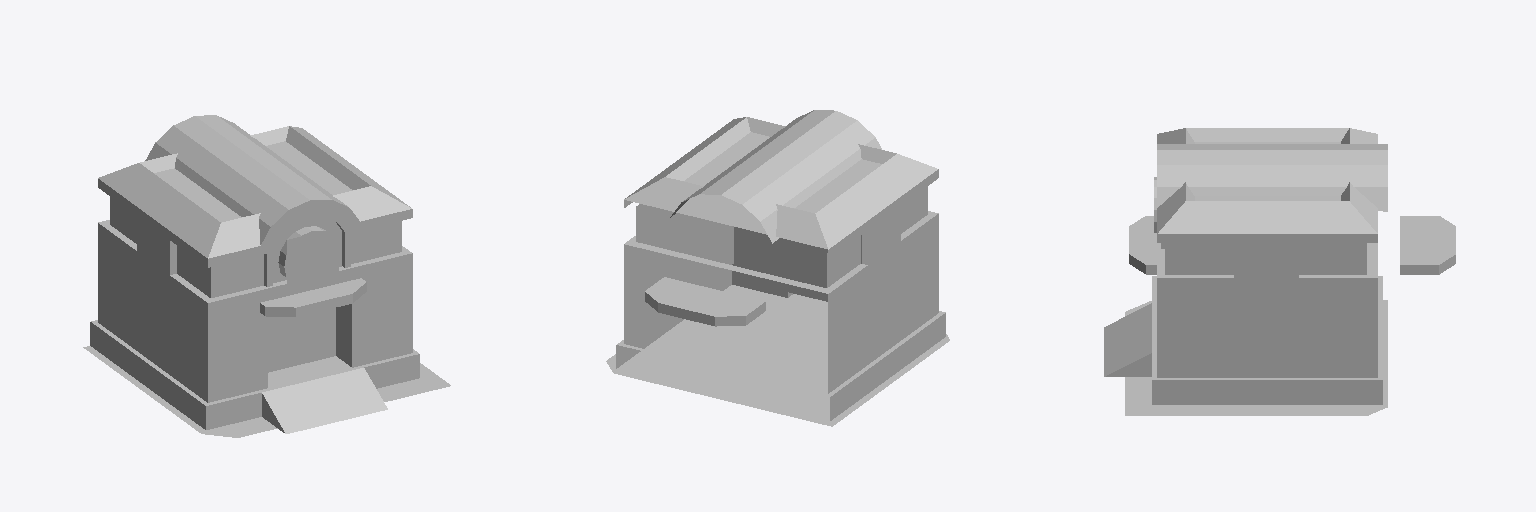
File: Pal Park.obj
3 renders of one model, left to right at view 1: azimuth 30°, elevation 25°; view 2: azimuth 150°, elevation 25°; view 3: azimuth 270°, elevation 25°, orthographic.
Visible parts, largest first — view 1: polygon3, polygon2, polygon0, polygon1; view 2: polygon3, polygon1, polygon2; view 3: polygon3, polygon2, polygon1.
Part boxes in pixels (x1,y1,x2,y2): polygon3: (90,115,419,433); polygon2: (110,197,401,297); polygon0: (287,227,338,293); polygon1: (83,346,450,437); polygon3: (616,110,945,420); polygon1: (606,285,949,426); polygon2: (636,186,927,287); polygon3: (1104,128,1455,404); polygon2: (1165,243,1366,274); polygon1: (1125,300,1387,415).
Size of the model in its own units: 102 by 84 by 131.